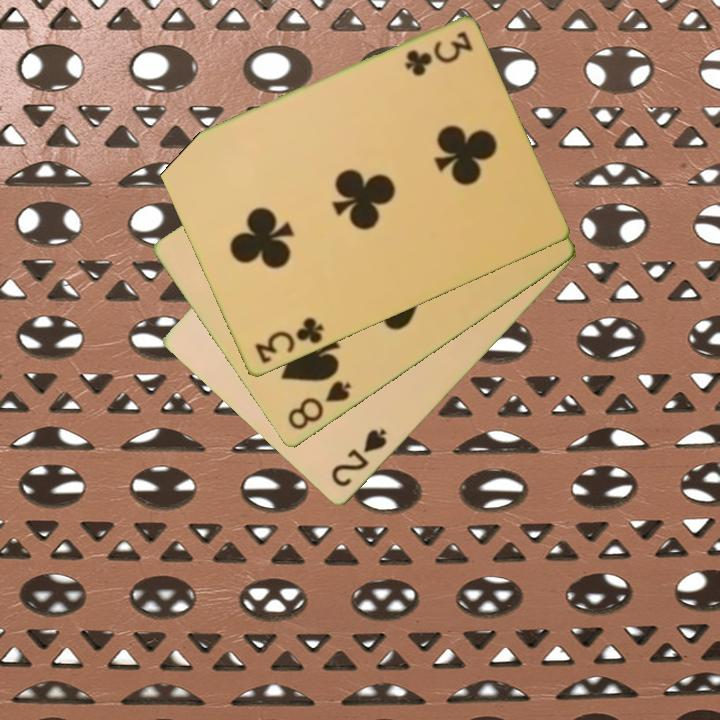2s: (328, 425, 391, 491)
3c: (251, 314, 327, 367), (401, 28, 475, 78)
8s: (284, 377, 354, 434)
